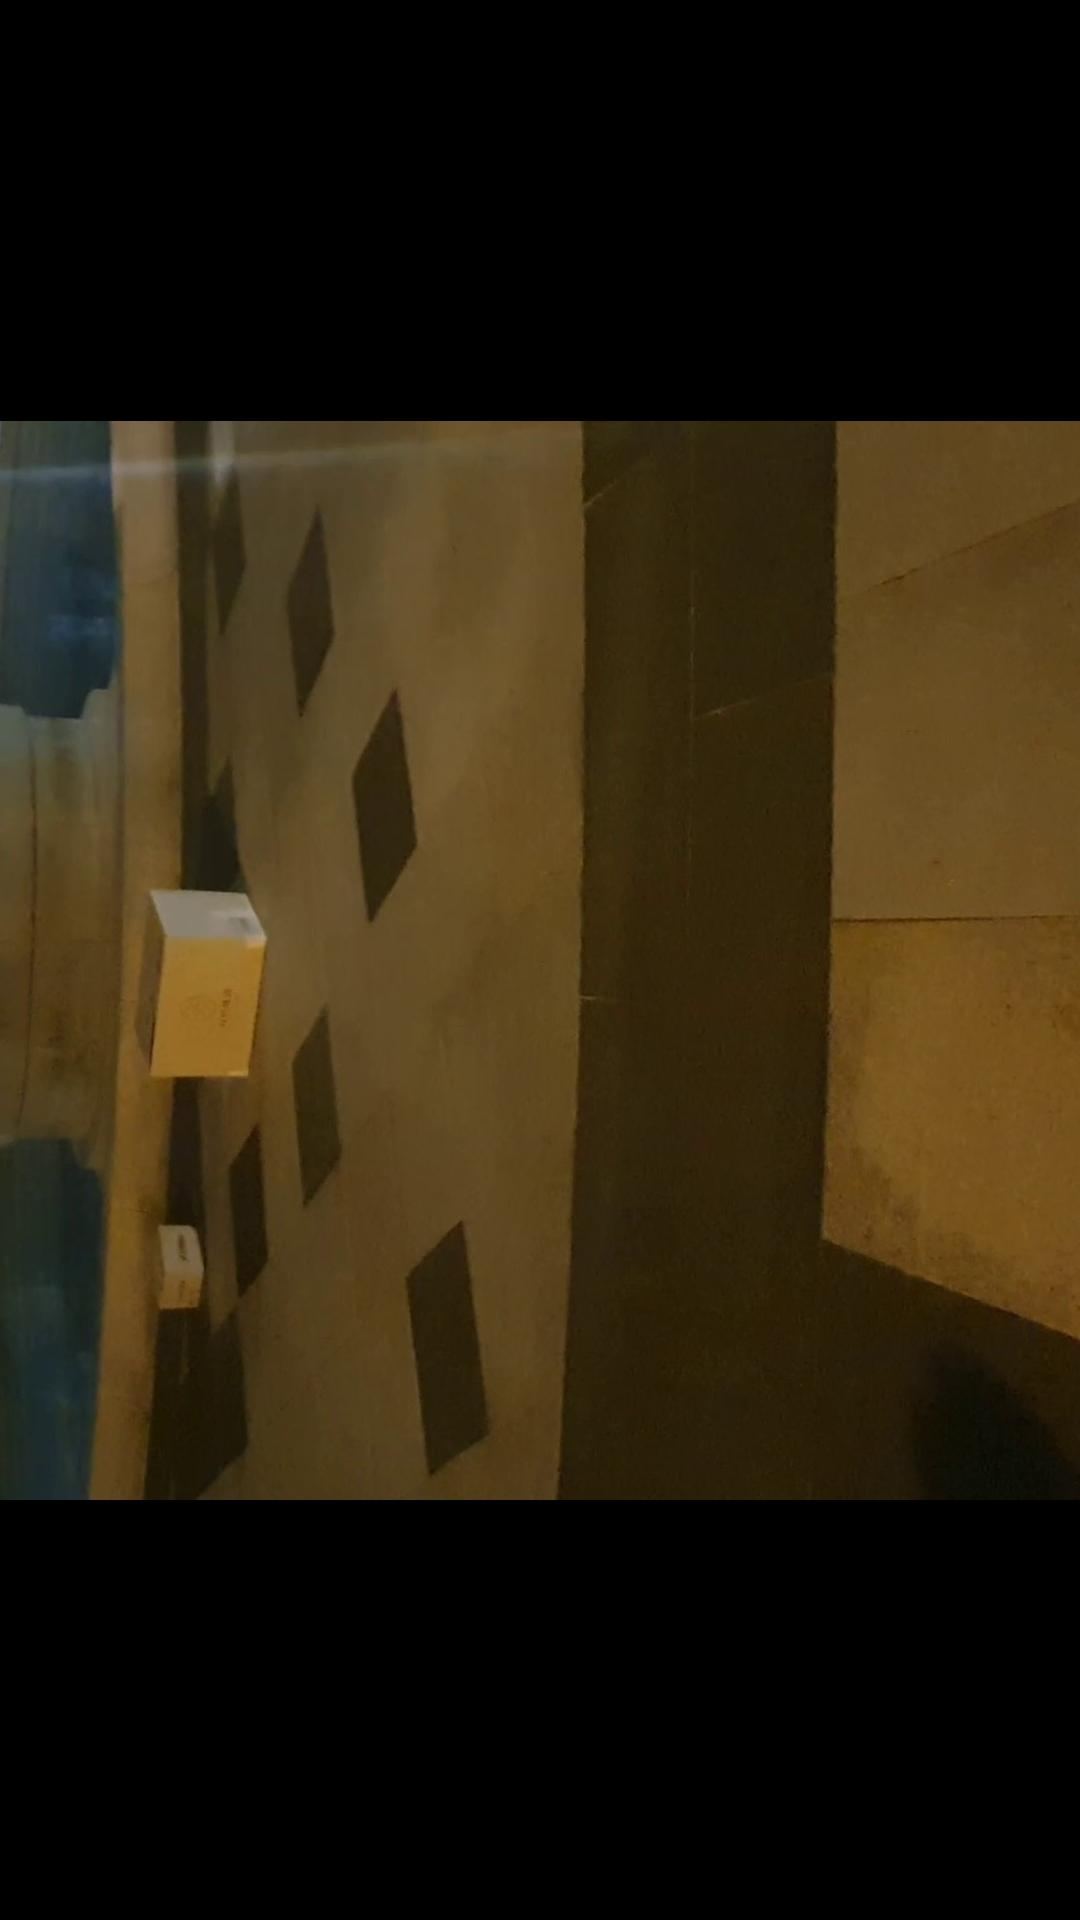Box: (128, 877, 265, 1095), (148, 1222, 218, 1309)
